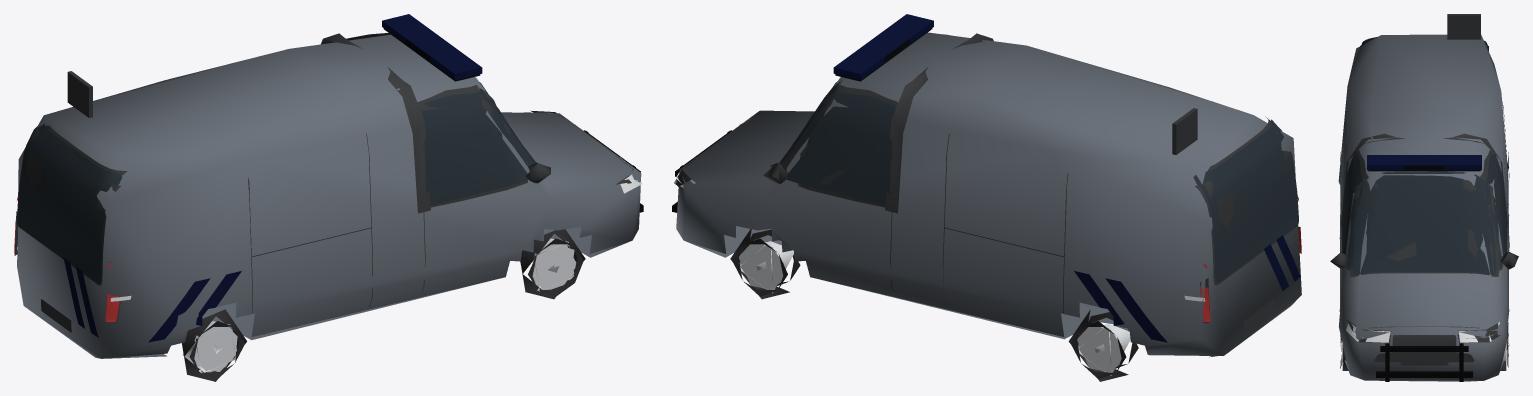
File: crs_van_ufar.glb
3 views of the same model, side by side, from view 1: azimuth 30°, elevation 25°; view 2: azimuth 150°, elevation 25°; view 3: azimuth 270°, elevation 25° (orthographic). The views are drawn at different scales.
Parts seen in each view (by area): view 1: Body, RearGlass, Glass-1, WheelFR, WheelRR, LightBar, Bpillar-1, WinFrame-1, RgFrame, CrsRoofPlate, CrsStripe1-1, CrsStripe0-1; view 2: Body, RearGlass, Glass1, WheelRL, WheelFL, LightBar, Bpillar1, WinFrame1, RgFrame, CrsRoofPlate, CrsStripe11, CrsStripe01; view 3: Body, Windshield, LightBar, WsFrame, Glass-1, Glass1, Intake, CrsRoofPlate, Grille, CrsBullL, CrsBullH, HeadReflector (+11 smaller).
Boxes of the visible parts, x1,y1,x2,y2 form: Body: (17, 34, 641, 358); RearGlass: (17, 124, 122, 282); Glass-1: (421, 91, 533, 205); WheelFR: (520, 229, 585, 299); WheelRR: (182, 309, 246, 381); LightBar: (382, 14, 482, 80); Bpillar-1: (387, 67, 430, 213); WinFrame-1: (417, 85, 529, 207); RgFrame: (17, 125, 127, 285); CrsRoofPlate: (67, 71, 92, 117); CrsStripe1-1: (148, 278, 210, 342); CrsStripe0-1: (196, 271, 241, 325); Body: (676, 32, 1301, 355); RearGlass: (1193, 119, 1298, 282); Glass1: (784, 92, 895, 205); WheelRL: (1068, 309, 1138, 381); WheelFL: (730, 229, 800, 299); LightBar: (833, 14, 933, 80); Bpillar1: (885, 67, 927, 213); WinFrame1: (783, 85, 897, 207); RgFrame: (1188, 116, 1298, 285); CrsRoofPlate: (1172, 108, 1197, 154); CrsStripe11: (1105, 278, 1167, 342); CrsStripe01: (1074, 271, 1124, 325); Body: (1338, 34, 1509, 381); Windshield: (1352, 172, 1496, 274); LightBar: (1367, 155, 1481, 170); WsFrame: (1349, 171, 1499, 277); Glass-1: (1341, 153, 1373, 268); Glass1: (1475, 152, 1507, 268); Intake: (1374, 352, 1474, 362); CrsRoofPlate: (1447, 14, 1480, 39); Grille: (1392, 335, 1456, 345); CrsBullL: (1376, 371, 1472, 377); CrsBullH: (1380, 346, 1468, 351); HeadReflector: (1346, 322, 1499, 342).
Bounding box in the file's own units: 5.72 × 2.55 × 2.14.
